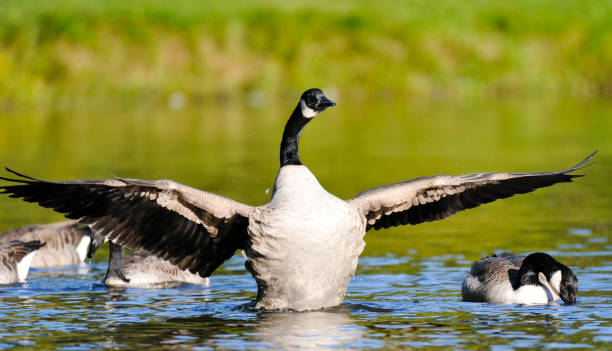goose: (225, 89, 377, 306), (459, 249, 583, 315)
